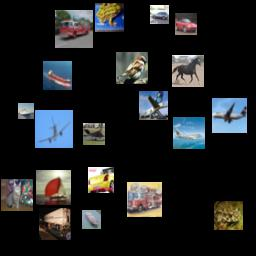airplane: (35, 110, 73, 148), (212, 98, 247, 133), (173, 117, 205, 149), (139, 91, 168, 120), (83, 123, 105, 145)
automobile: (88, 167, 114, 193), (175, 13, 197, 35), (150, 5, 169, 24)
bird: (116, 52, 148, 84)
cat: (1, 179, 33, 211)
frog: (214, 201, 243, 230), (95, 3, 124, 32)
ship: (36, 170, 71, 205), (43, 61, 72, 90), (82, 210, 101, 229), (18, 103, 34, 119)
truck: (55, 10, 93, 48), (127, 182, 162, 217), (39, 208, 71, 240)
